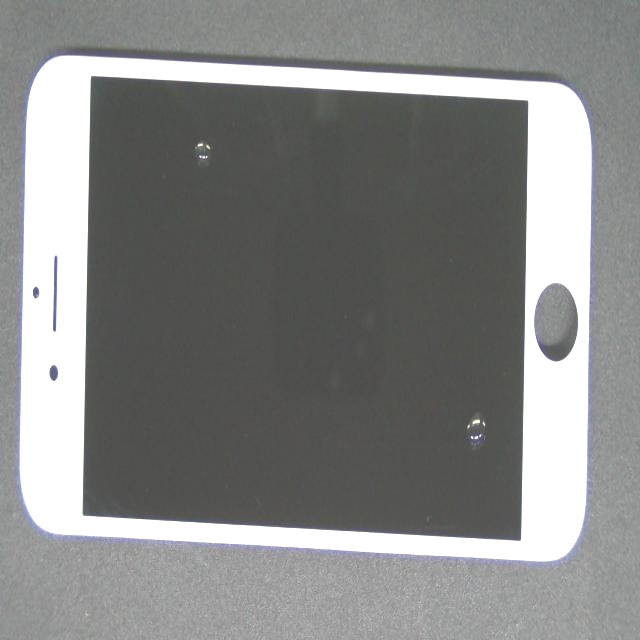oil: (228, 187, 640, 640), (93, 76, 292, 212)
